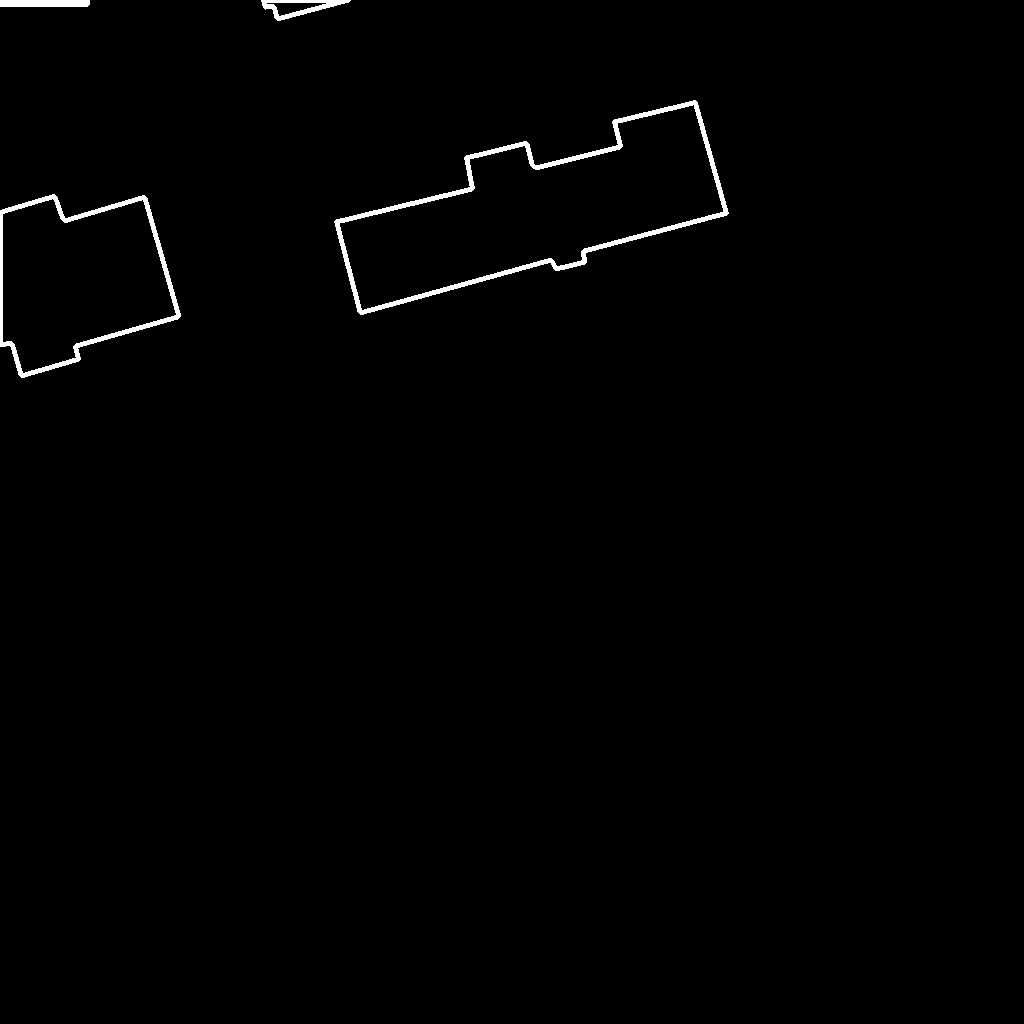building: (336, 102, 728, 314), (0, 196, 180, 377), (263, 0, 351, 20), (0, 0, 89, 5)
